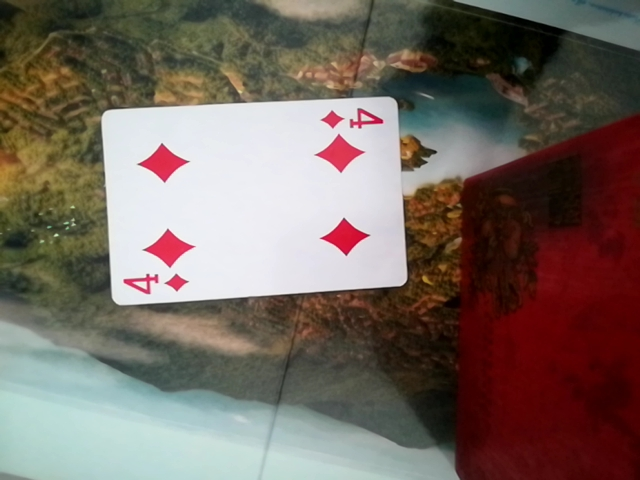fk 4: (97, 94, 415, 305)
